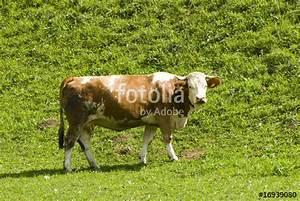cow: (52, 70, 220, 172)
